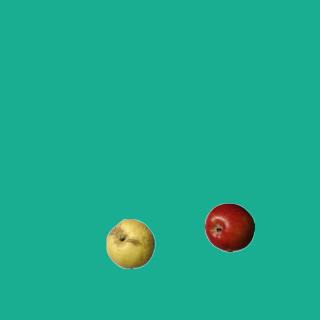Apple Braeburn: (204, 202, 254, 252)
Apple Golden 1: (105, 218, 155, 268)
